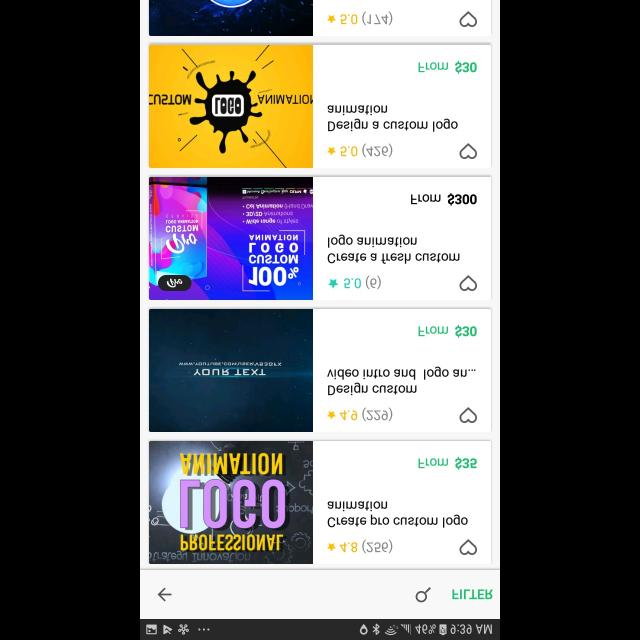icon: (459, 539, 477, 555), (459, 407, 477, 423), (459, 275, 477, 291), (459, 11, 477, 27), (416, 586, 432, 602), (459, 144, 477, 158), (158, 587, 172, 601), (329, 278, 339, 288), (328, 146, 337, 156), (328, 14, 337, 24), (328, 542, 337, 550), (328, 411, 337, 419)
image: (149, 44, 313, 168), (150, 176, 314, 300), (149, 308, 313, 432), (150, 441, 314, 564), (150, 0, 314, 36)
text: (328, 366, 477, 396), (328, 234, 460, 264), (328, 500, 468, 528), (327, 106, 458, 132), (411, 192, 477, 205), (418, 60, 478, 74), (340, 539, 392, 553), (340, 407, 392, 421), (341, 143, 393, 157), (341, 11, 393, 25), (417, 327, 477, 338), (418, 458, 477, 469), (344, 274, 382, 290), (452, 589, 492, 599)
uppertaskbar: (140, 618, 500, 640)
